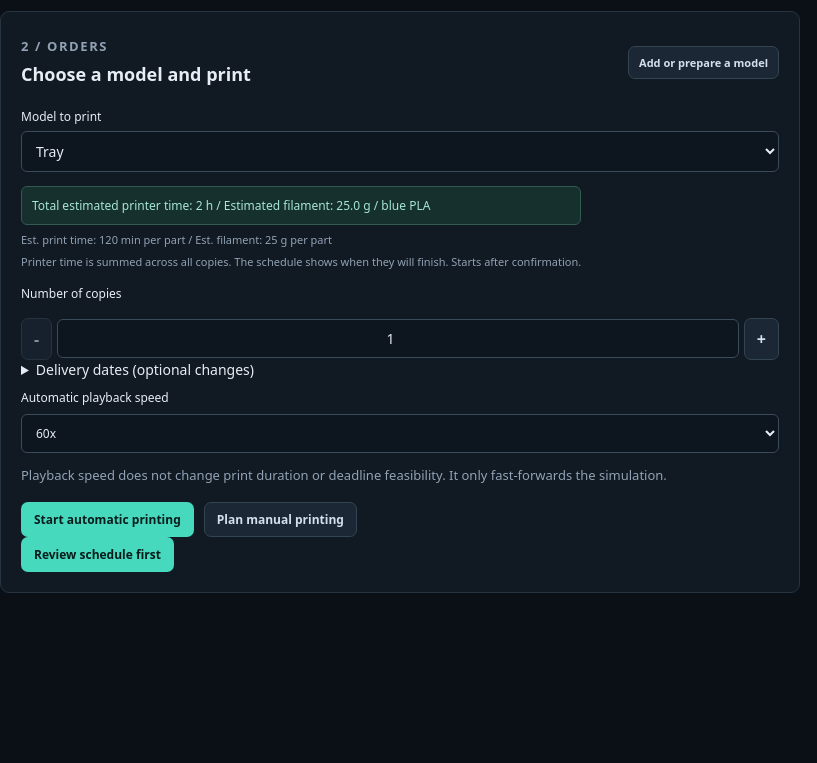
Test: model selection, editable deadlines and failures guide the user without losing choices
Select "Blue PLA figure" in the dropdown labelled "Model to print" at (400, 151), box top-left (21, 130), bottom-right (779, 172)
Click the button "Add or prepare a model" at (704, 63), box top-left (628, 46), bottom-right (779, 79)
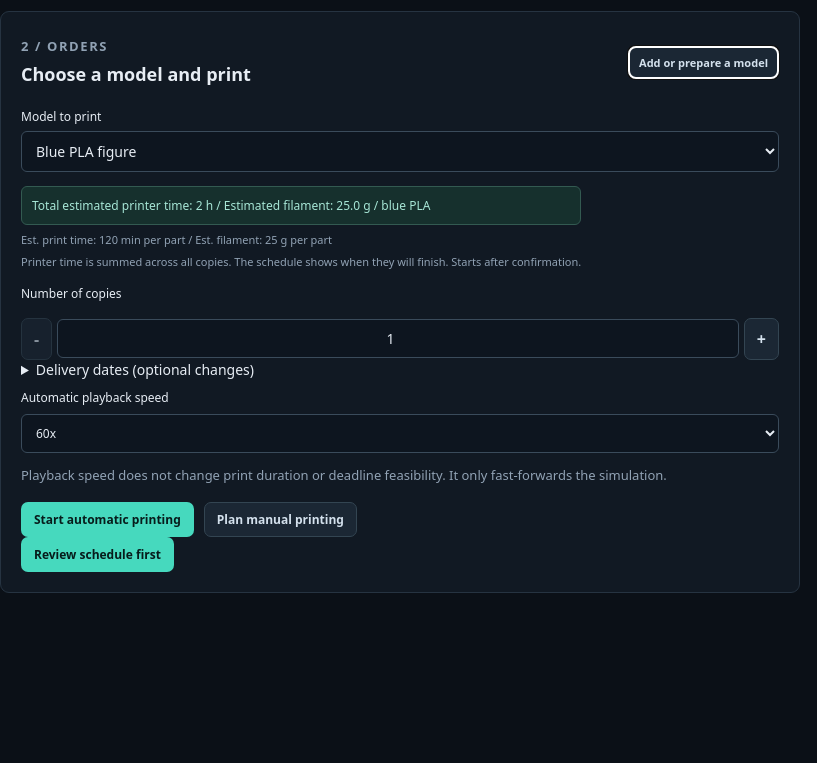
Click the heading "Delivery dates (optional changes)" at (145, 369), box top-left (36, 360), bottom-right (254, 378)
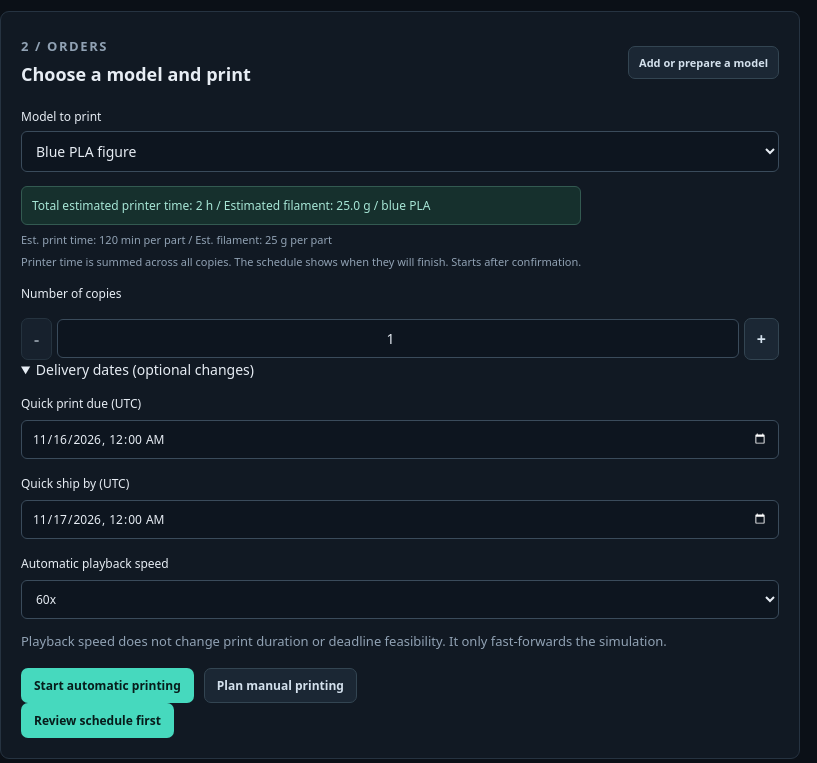
Replace the text in the field labelled "Quick ship by (UTC)" with "2026-11-14T00:00" at (400, 519), box top-left (21, 500), bottom-right (779, 538)
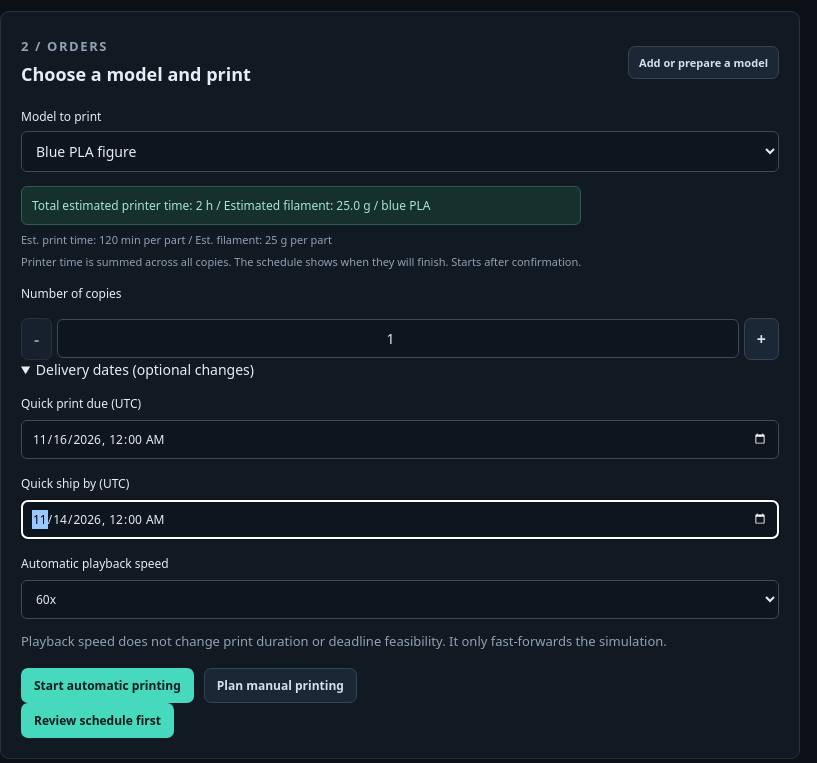
Click the button "Start automatic printing" at (107, 685), box top-left (21, 668), bottom-right (194, 702)
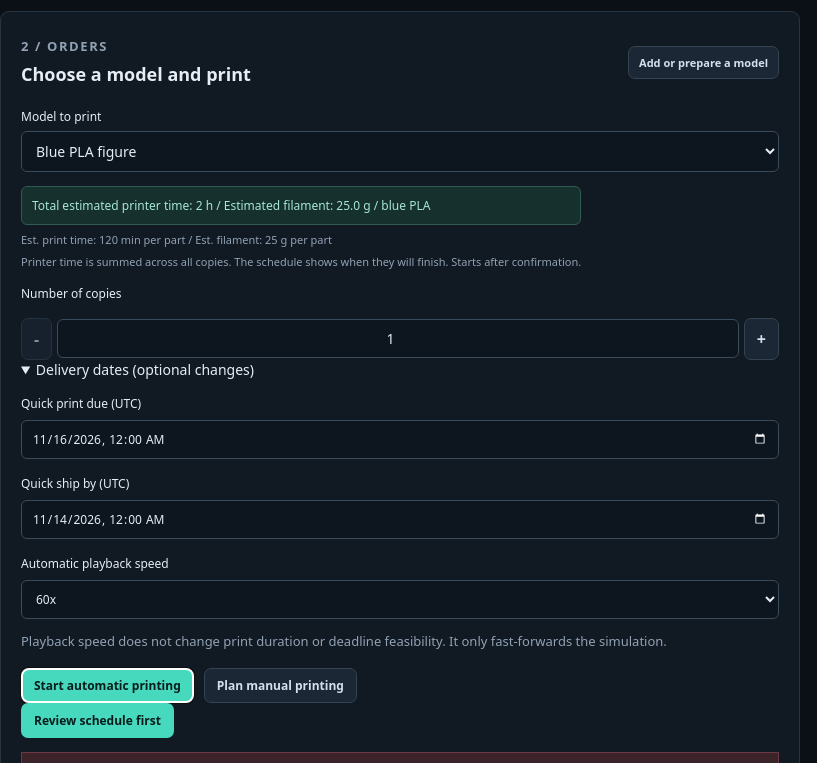
Replace the text in the field labelled "Quick print due (UTC)" with "2026-11-13T00:00" at (400, 439), box top-left (21, 420), bottom-right (779, 458)
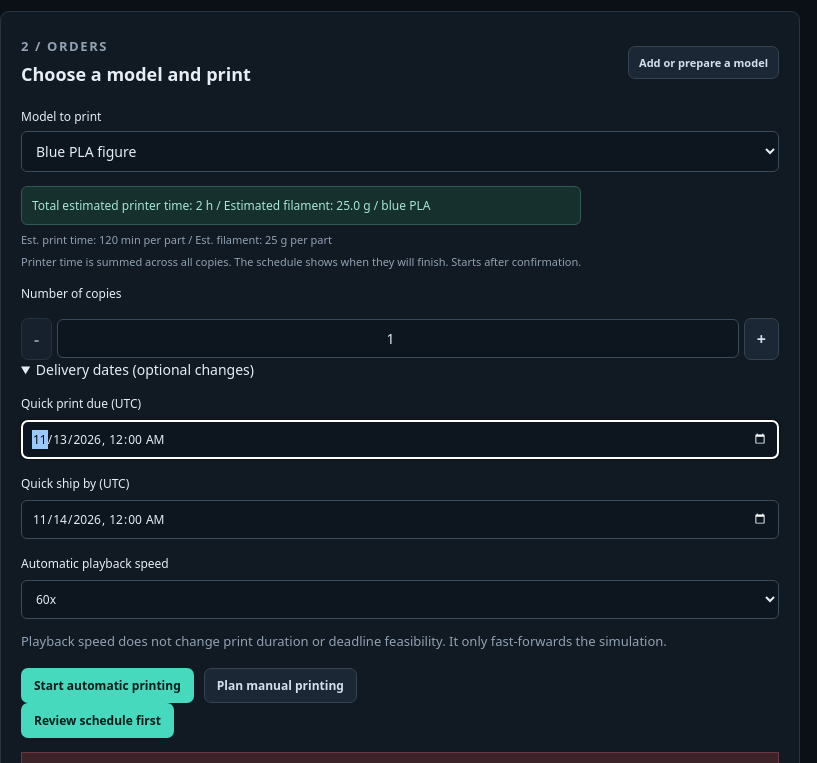
Click the button "Start automatic printing" at (107, 685), box top-left (21, 668), bottom-right (194, 702)
(page scrolled)
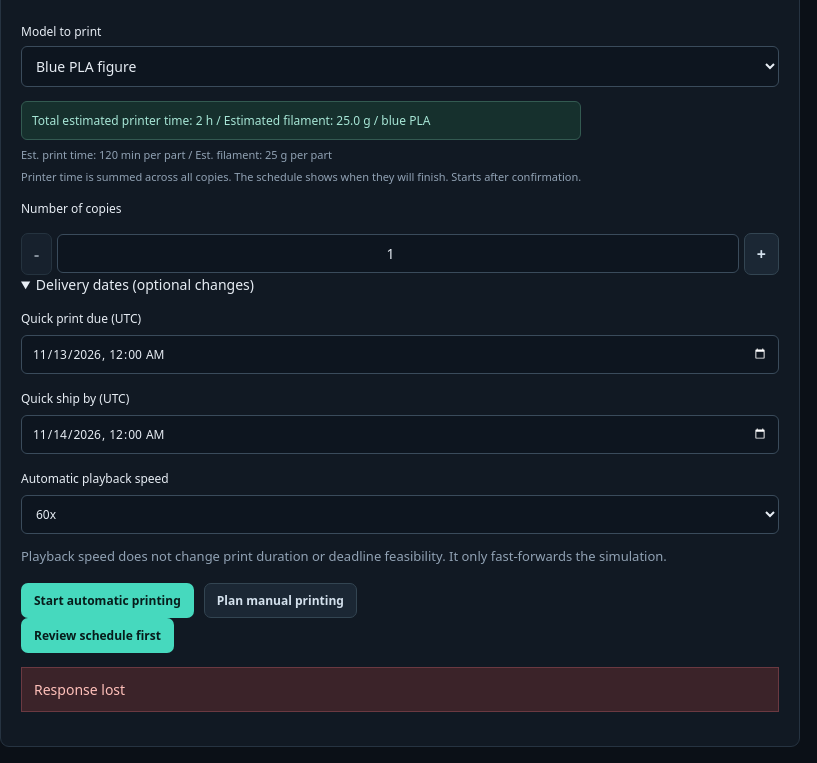
Check: the message reads "Response lost", box top-left (34, 680), bottom-right (125, 698)
